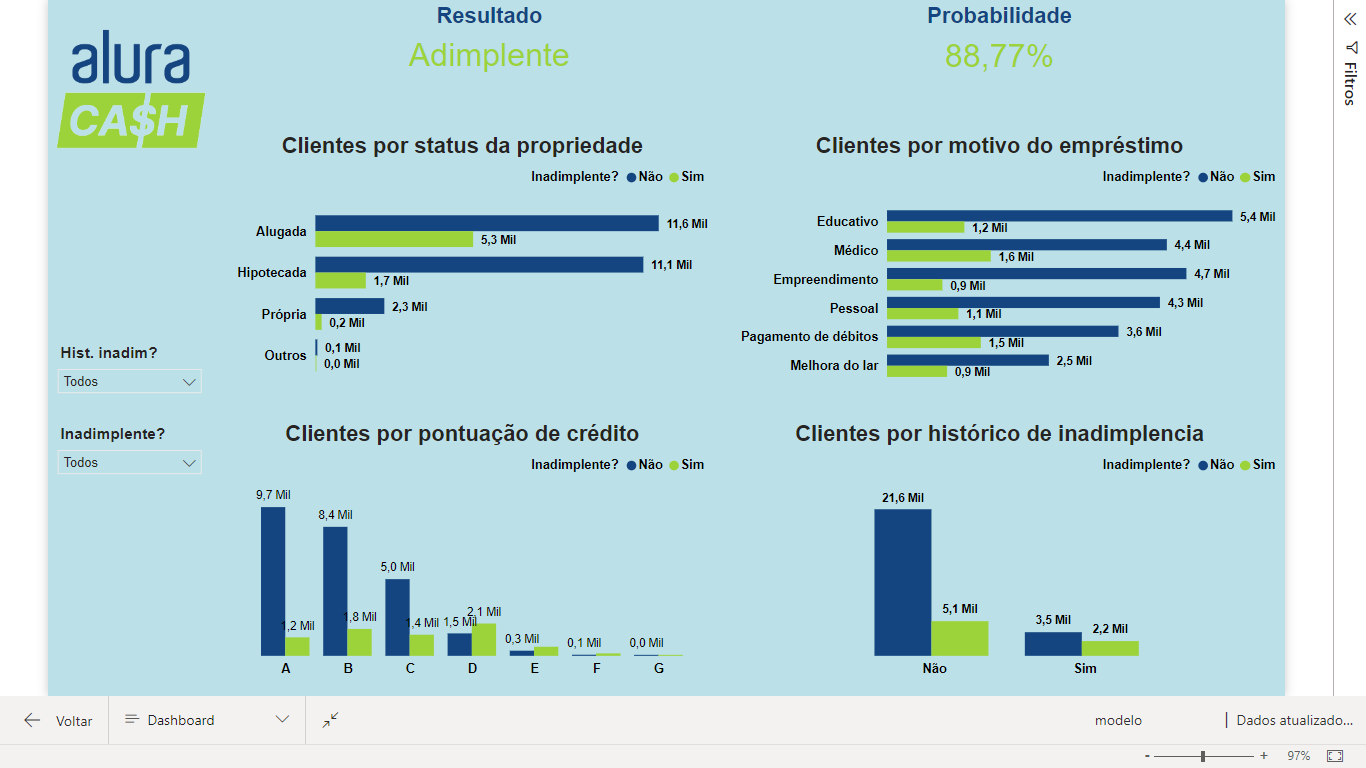

Layout of this report page (visuals, bound fields, positions):
{"tool":"powerbi","page":{"name":"Dashboard","canvas":[1280,720],"ordinal":0},"visuals":[{"type":"card","title":"Resultado","fields":{"Values":["Min(v1=39&v2=33996 0&v3=Alugada&v4=6&v5=M%C3%A9dico&v6=D&v7=4000 0&v8=11 01363&v9=0.Cliente)"]},"box":[362.8,2.8,187.1,79.4],"z":0},{"type":"card","title":"Probabilidade","fields":{"Values":["Sum(v1=39&v2=33996 0&v3=Alugada&v4=6&v5=M%C3%A9dico&v6=D&v7=4000 0&v8=11 01363&v9=0.Probabilidade)"]},"box":[900,2.8,168.7,82.2],"z":1000},{"type":"clusteredBarChart","title":"Clientes por status da propriedade","fields":{"Category":["alura_cash_tratado.pessoa_status_propriedade"],"Y":["CountNonNull(alura_cash_tratado.emprestimo_inadimplente)"],"Series":["alura_cash_tratado.emprestimo_inadimplente_texto"]},"box":[168.7,137.5,520.2,283.5],"z":2000},{"type":"image","box":[0,0,168.7,182.8],"z":3000},{"type":"clusteredBarChart","title":"Clientes por motivo do empréstimo","fields":{"Category":["alura_cash_tratado.emprestimo_motivo"],"Y":["CountNonNull(alura_cash_tratado.emprestimo_inadimplente)"],"Series":["alura_cash_tratado.emprestimo_inadimplente_texto"]},"box":[688.8,137.5,591,283.5],"z":4000},{"type":"clusteredColumnChart","title":"Clientes por pontuação de crédito","fields":{"Category":["alura_cash_tratado.emprestimo_pontuacao"],"Y":["CountNonNull(alura_cash_tratado.emprestimo_inadimplente)"],"Series":["alura_cash_tratado.emprestimo_inadimplente_texto"]},"box":[168.7,435.1,520.2,284.9],"z":5000},{"type":"clusteredColumnChart","title":"Clientes por histórico de inadimplencia","fields":{"Y":["CountNonNull(alura_cash_tratado.emprestimo_inadimplente)"],"Series":["alura_cash_tratado.emprestimo_inadimplente_texto"],"Category":["alura_cash_tratado.historico_inadimplencia_texto"]},"box":[688.8,435.1,591,284.9],"z":6000},{"type":"slicer","fields":{"Values":["alura_cash_tratado.emprestimo_inadimplente_texto"]},"box":[0,435.1,168.7,73.7],"z":7000},{"type":"slicer","fields":{"Values":["alura_cash_tratado.historico_inadimplencia_texto"]},"box":[0,351.5,168.7,69.4],"z":7001}]}

Visuals, with their boxes on the page's 1280x720 design canvas (x1, y1, x2, y2). These are canvas units, not pixel positions in the 1366x768 screenshot, which may show the page scaled, cropped or inside an application window:
"Resultado" card: (x1=363, y1=3, x2=550, y2=82)
"Probabilidade" card: (x1=900, y1=3, x2=1069, y2=85)
"Clientes por status da propriedade" clusteredBarChart: (x1=169, y1=138, x2=689, y2=421)
image: (x1=0, y1=0, x2=169, y2=183)
"Clientes por motivo do empréstimo" clusteredBarChart: (x1=689, y1=138, x2=1280, y2=421)
"Clientes por pontuação de crédito" clusteredColumnChart: (x1=169, y1=435, x2=689, y2=720)
"Clientes por histórico de inadimplencia" clusteredColumnChart: (x1=689, y1=435, x2=1280, y2=720)
slicer - alura_cash_tratado.emprestimo_inadimplente_texto: (x1=0, y1=435, x2=169, y2=509)
slicer - alura_cash_tratado.historico_inadimplencia_texto: (x1=0, y1=352, x2=169, y2=421)
